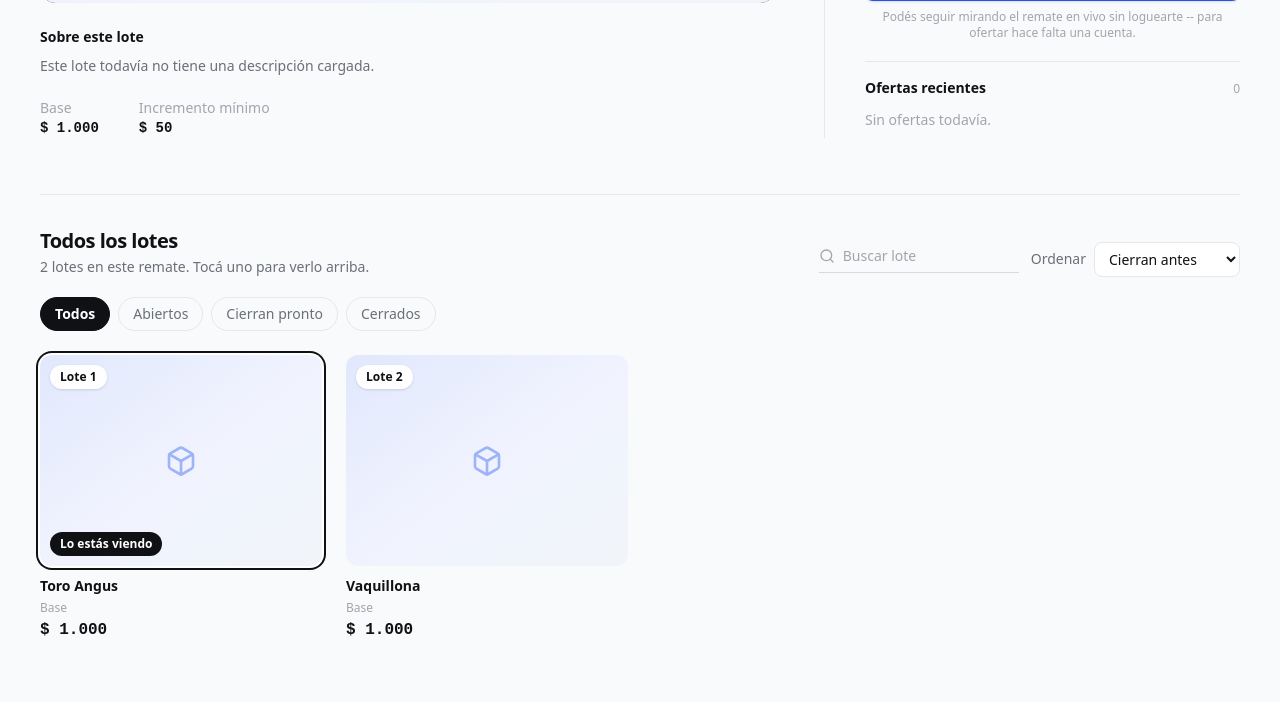
TimedSalaPage › con varios lotes, arranca mostrando el primer lote abierto y permite cambiar de lote desde el catálogo
The width and height of the screenshot is (1280, 702).
(page scrolled)
Expected: the text "2 lotes en este remate" is shown, x1=40 y1=257 x2=186 y2=276
# El lote del catálogo es un botón: su nombre accesible incluye el número y el título.
Step 1. Click the button "Lote 2 Vaquillona Base $ 1.000" → (487,498), box x1=346 y1=355 x2=628 y2=642
(page scrolled)
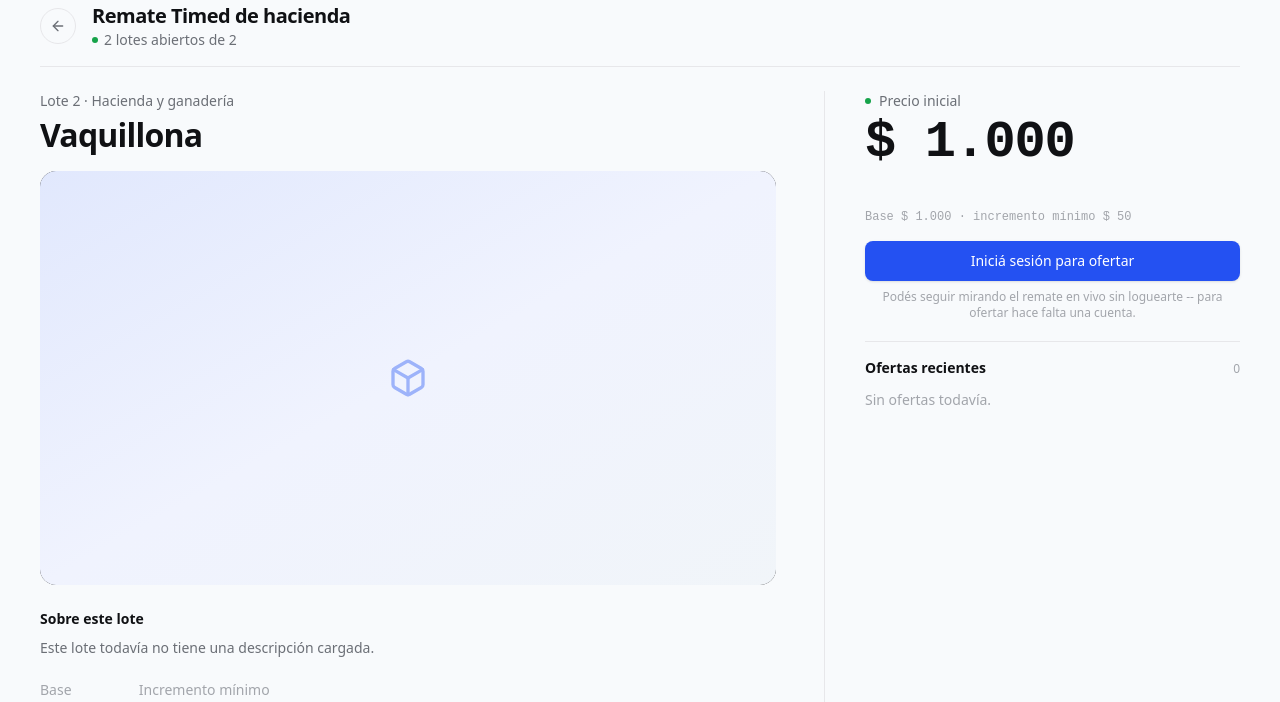
Expected: the heading "Toro Angus" is not shown
Now the heading "Vaquillona" is shown, box x1=40 y1=113 x2=202 y2=156
